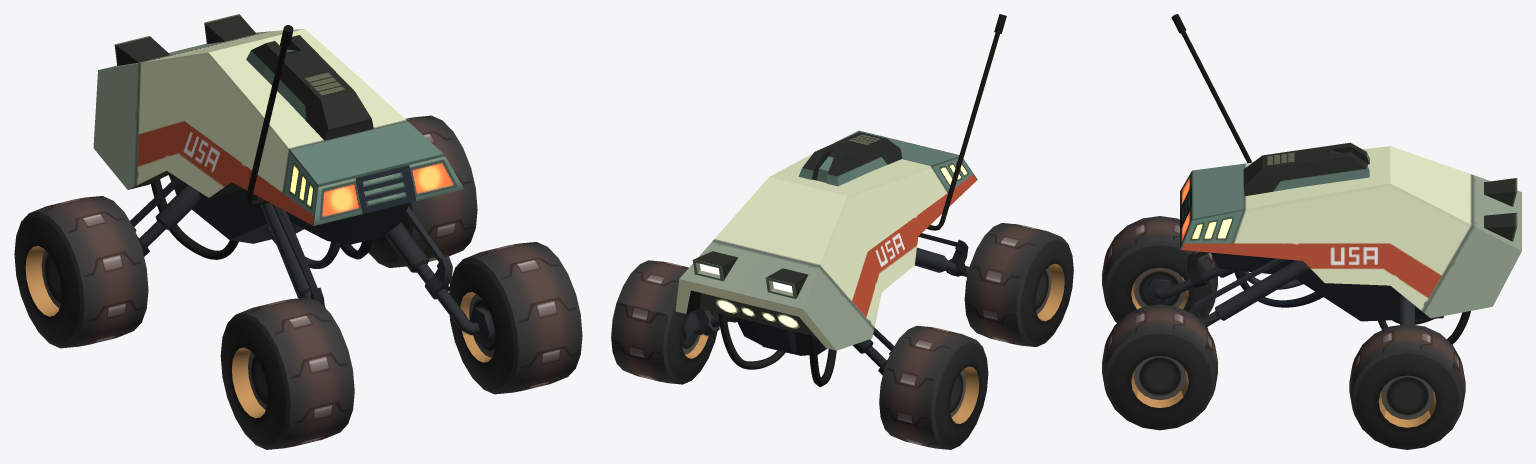
Rendered from Rover.glb.
The picture shows the model from 3 angles, left to right: view 1: azimuth 30°, elevation 25°; view 2: azimuth 150°, elevation 25°; view 3: azimuth 270°, elevation 25°; orthographic projection. The views are drawn at different scales.
Parts seen in each view (by area): view 1: Mesh; view 2: Mesh; view 3: Mesh.
Boxes of the visible parts, left/top/right/bottom form: Mesh: left=14, top=14, right=582, bottom=449; Mesh: left=611, top=14, right=1073, bottom=449; Mesh: left=1102, top=14, right=1521, bottom=449.
Size of what is drawn, in the model's own units: 1 by 0.954 by 1.13.
Materials: 29 (10 with a texture image).
